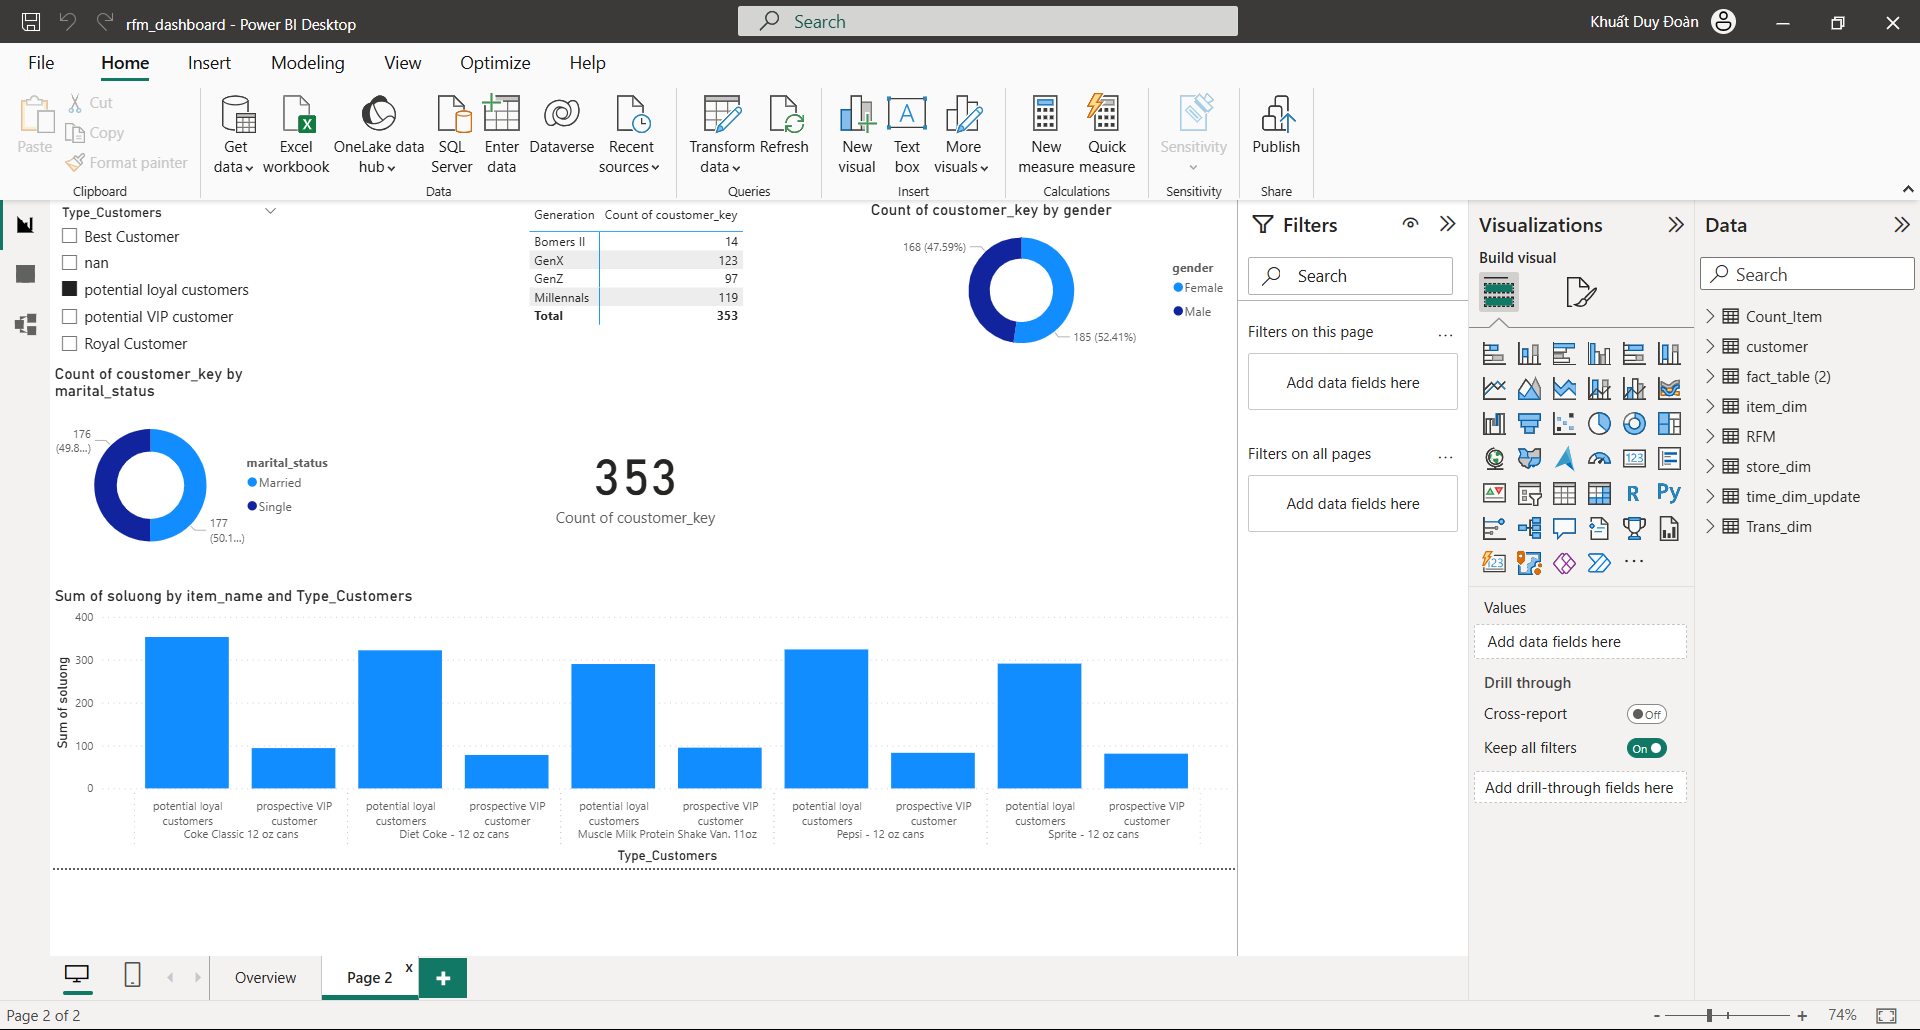

The page's visual inventory and layout, read from the dashboard file:
{"tool":"powerbi","page":{"name":"Page 2","canvas":[1280,720],"ordinal":1},"visuals":[{"type":"slicer","fields":{"Values":["RFM.Type_Customers"]},"box":[0,0,256.8,176],"z":0},{"type":"card","fields":{"Values":["Count(customer.coustomer_key)"]},"box":[448,208,368,192],"z":1000},{"type":"donutChart","fields":{"Category":["customer.gender"],"Y":["CountNonNull(customer.coustomer_key)"]},"box":[880,0,400,176],"z":2000},{"type":"donutChart","fields":{"Category":["customer.marital_status"],"Y":["CountNonNull(customer.coustomer_key)"]},"box":[0,176,320,224],"z":3000},{"type":"pivotTable","fields":{"Rows":["customer.Generation"],"Values":["Count(customer.coustomer_key)"]},"box":[512,0,320,224],"z":4000},{"type":"columnChart","fields":{"Category":["Count_Item.item_name","Count_Item.Type_Customers"],"Y":["Sum(Count_Item.soluong)"]},"box":[0,416,1280,304],"z":5000}]}

Visuals, with their boxes on the page's 1280x720 design canvas (x1, y1, x2, y2). These are canvas units, not pixel positions in the 1920x1030 screenshot, which may show the page scaled, cropped or inside an application window:
slicer - RFM.Type_Customers: (0,0,257,176)
card - Count(customer.coustomer_key): (448,208,816,400)
donutChart - customer.gender x CountNonNull(customer.coustomer_key): (880,0,1280,176)
donutChart - customer.marital_status x CountNonNull(customer.coustomer_key): (0,176,320,400)
pivotTable - customer.Generation x Count(customer.coustomer_key): (512,0,832,224)
columnChart - Count_Item.item_name x Count_Item.Type_Customers: (0,416,1280,720)
